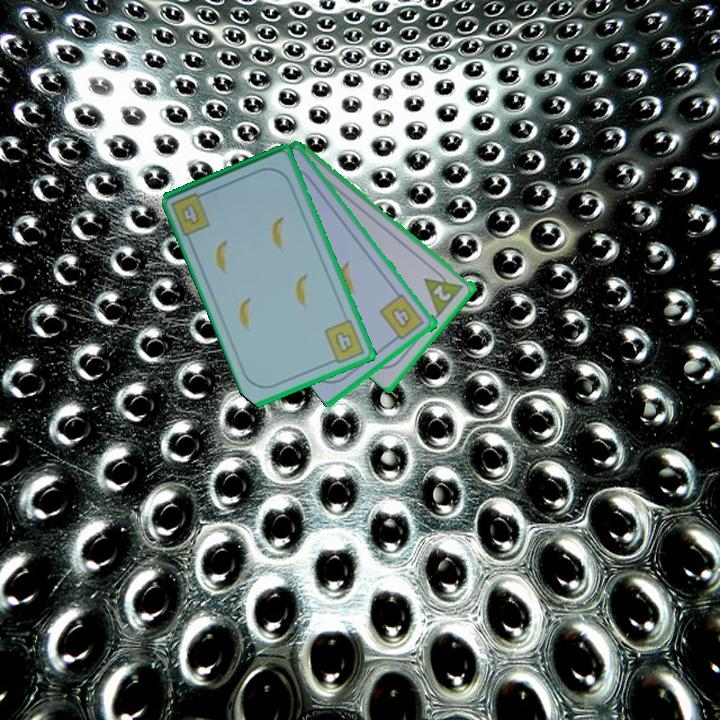2p: (430, 281, 455, 304)
4b: (376, 291, 427, 344), (321, 316, 367, 367), (168, 188, 213, 238)
